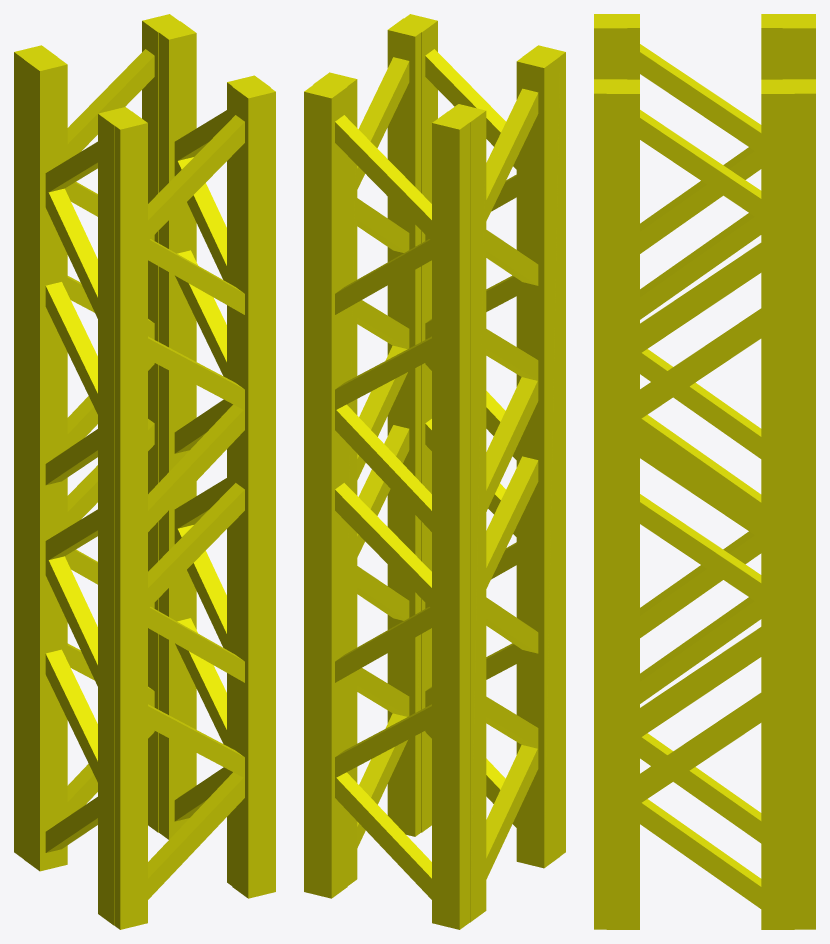
The model's file is pillar5.fbx.
The picture shows the model from 3 angles, left to right: view 1: azimuth 30°, elevation 25°; view 2: azimuth 150°, elevation 25°; view 3: azimuth 270°, elevation 25°; orthographic projection. The views are drawn at different scales.
Visible parts, largest first — view 1: pillar5; view 2: pillar5; view 3: pillar5.
Boxes of the visible parts, x1=… form: pillar5: x1=14, y1=14, x2=275, y2=929; pillar5: x1=304, y1=14, x2=565, y2=929; pillar5: x1=594, y1=14, x2=815, y2=929.
Bounding box in the file's own units: 1.06 × 5.19 × 1.25.
